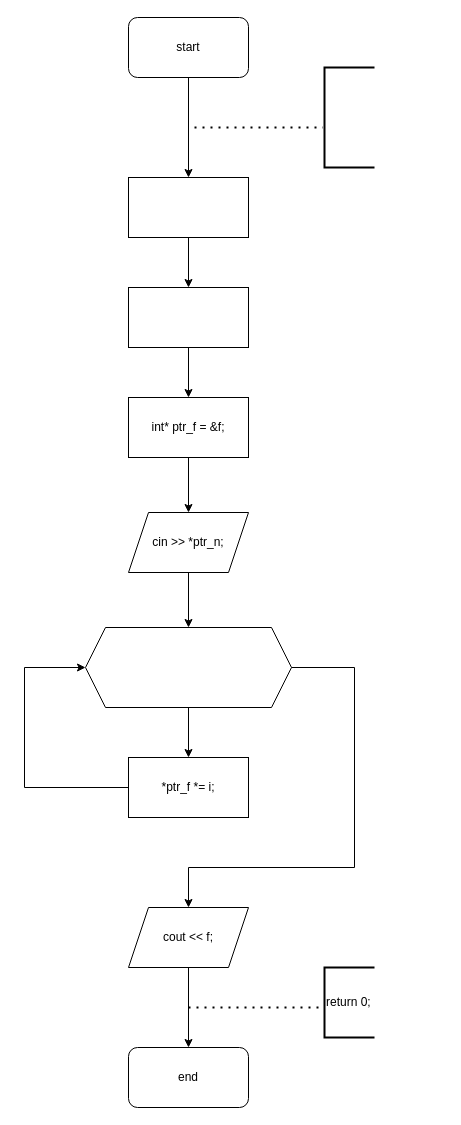
Image size: 461x1125. Some labels were removed from this diagram. The centre of each missing label's shape, as x and y in pixels:
#include <iostream> using namespace std; int main (): point 349,117
for (size_t i = 1; i <= *ptr_n; i++): point 188,667
int n, f = 1;: point 188,207
int* ptr_n = &n;: point 188,317
